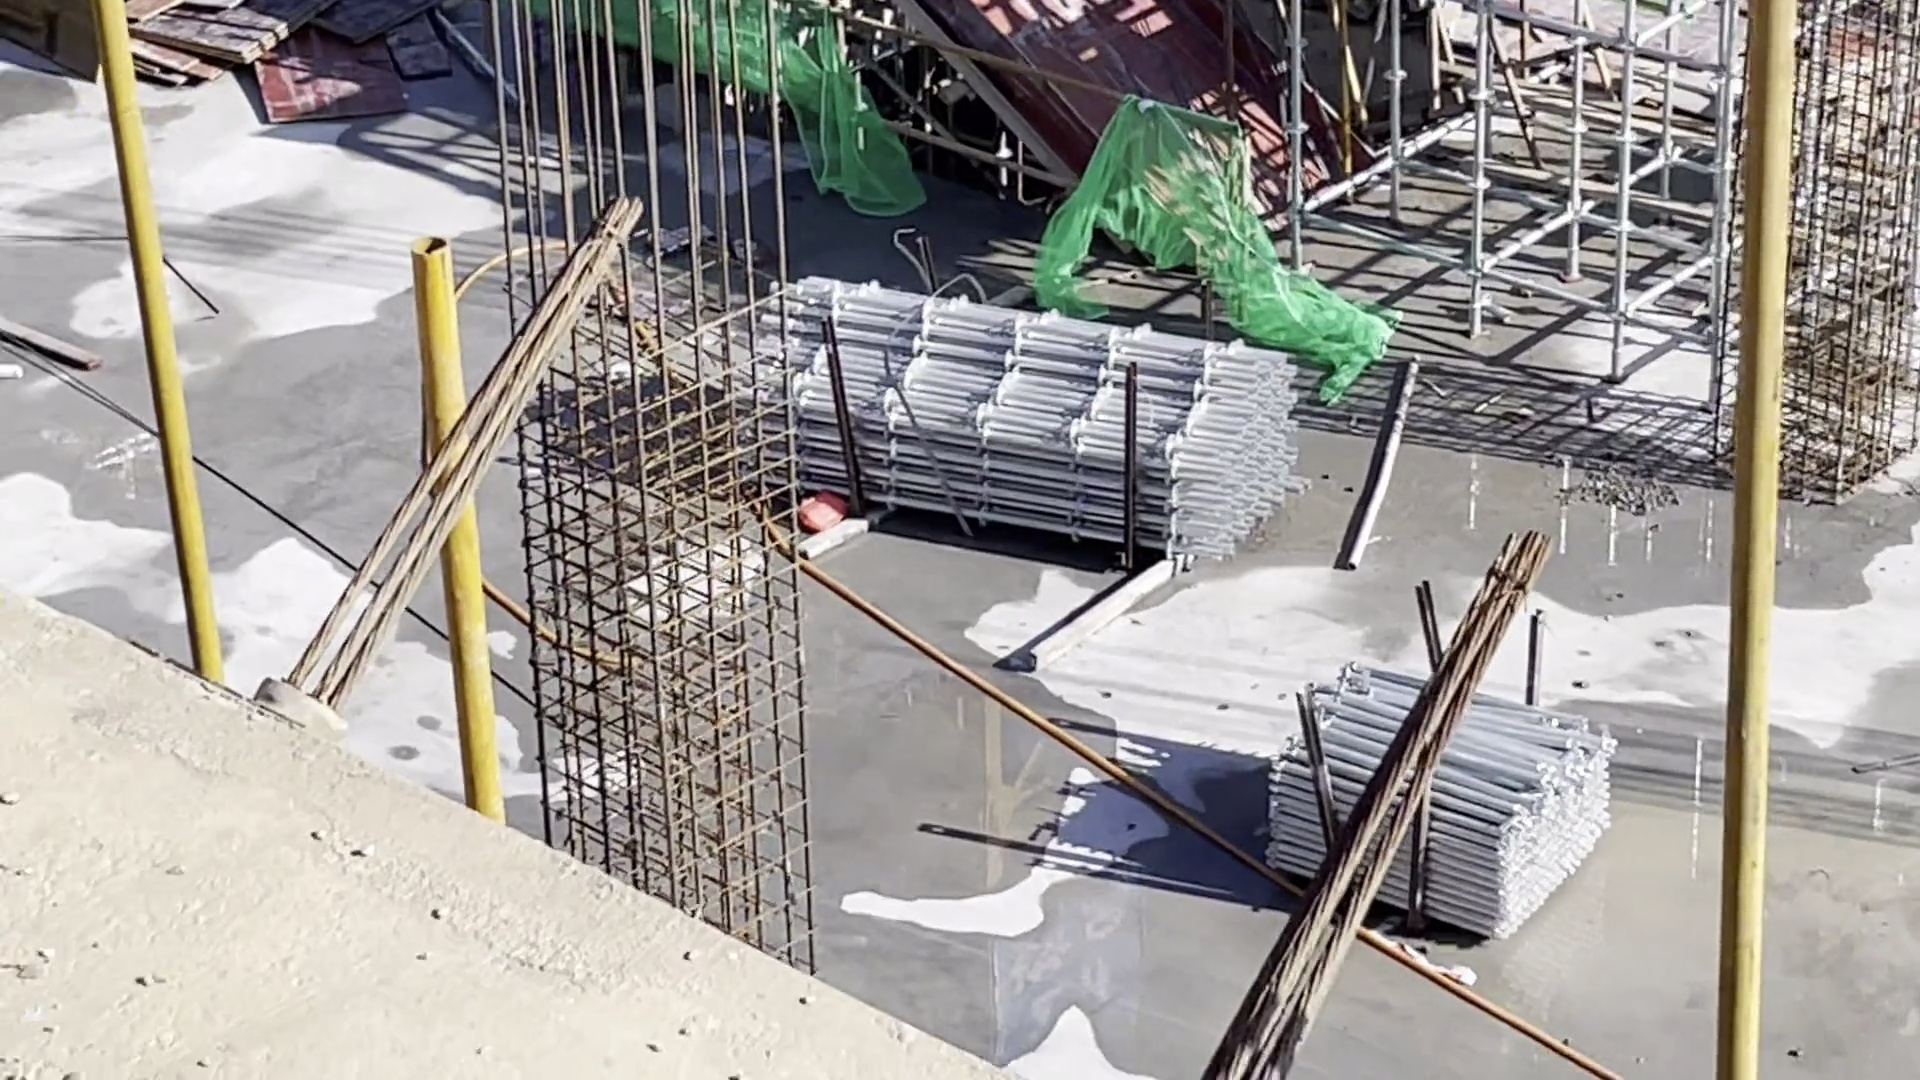scaffold: (740, 272, 1313, 560), (1273, 659, 1614, 938)
